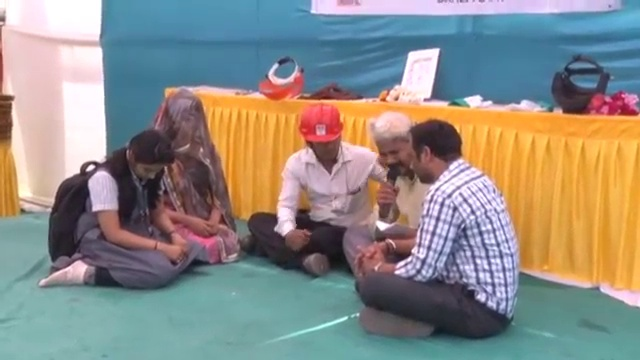helmet: (296, 104, 346, 144)
helmet_off: (154, 86, 211, 161), (407, 117, 466, 188), (371, 113, 425, 185), (117, 125, 175, 183)
helmet_on: (297, 109, 350, 168)
person: (351, 108, 523, 337), (37, 126, 197, 285), (246, 99, 395, 267), (145, 84, 240, 265), (340, 111, 431, 277)
